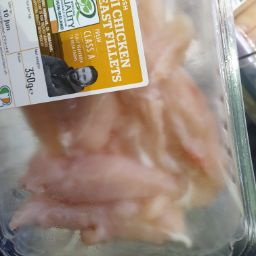Chicken Thigh Fillets: (26, 119, 196, 246), (145, 5, 227, 242)
